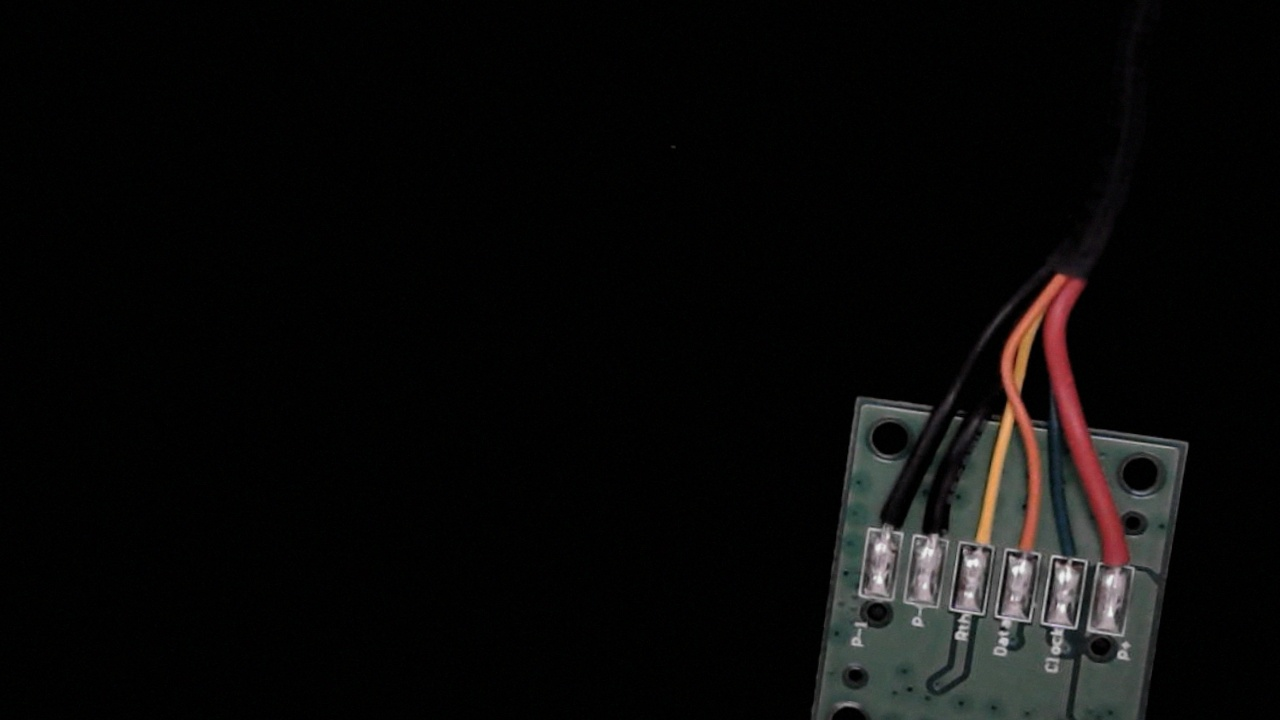Black: (914, 483, 960, 557)
Black1: (865, 470, 915, 549)
Green: (1046, 510, 1095, 579)
Orange: (1003, 502, 1051, 571)
Red: (1098, 510, 1145, 583)
Yellow: (954, 490, 1006, 567)
